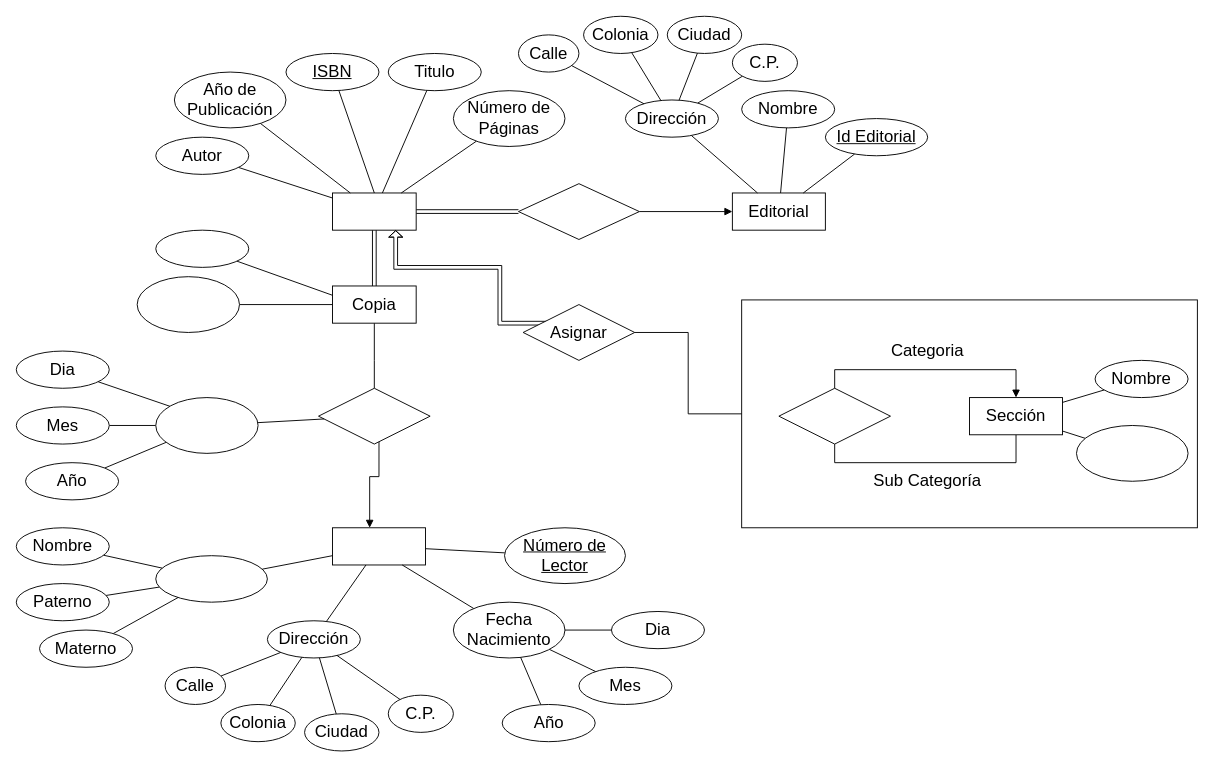
The diagram is 1214 pixels wide and 767 high, and some of its shapes have lost their labels. The shapes that lost their labels are listed below. From the top down, each one's centre as x and y in pixels, then its label:
the point at 374,211: Libro
the point at 578,211: Pertenecer
the point at 202,248: Lugar
the point at 187,304: Número de Copia
the point at 206,425: Fecha Devolución
the point at 374,415: Prestar
the point at 834,415: Contener
the point at 1132,453: Número de Sección
the point at 378,546: Lector
the point at 211,578: Nombre Completo
